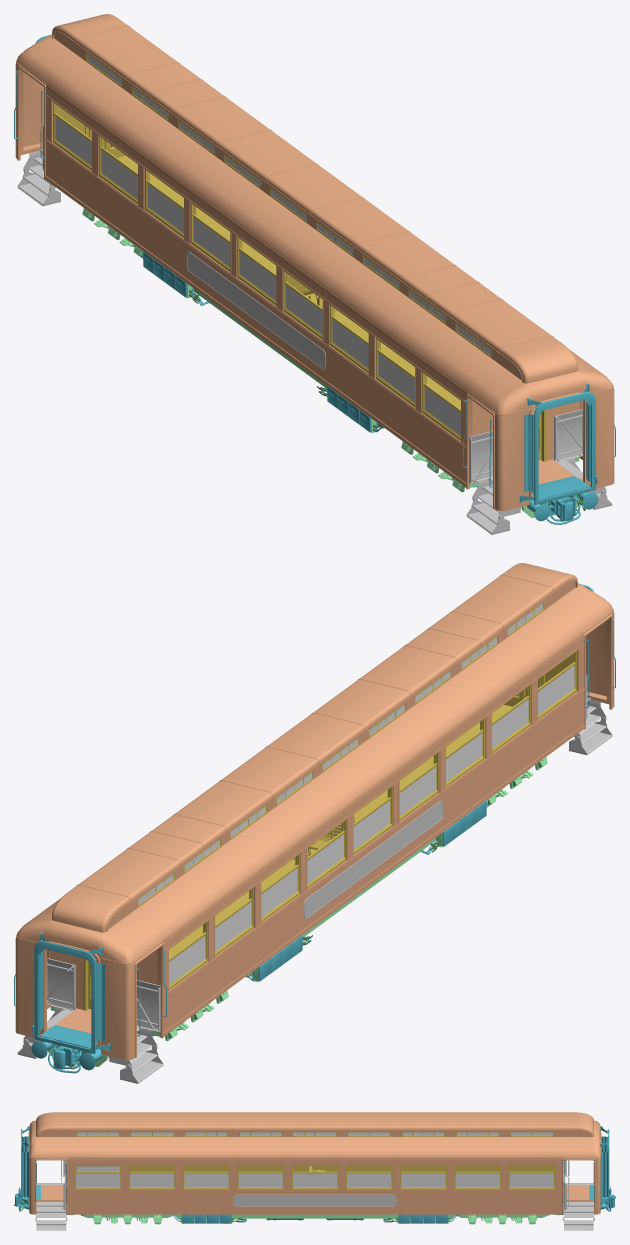
File: Passenger_Car_2_Class.fbx
The picture shows the model from 3 angles, top to bottom: view 1: azimuth 30°, elevation 25°; view 2: azimuth 150°, elevation 25°; view 3: azimuth 270°, elevation 25°; orthographic projection. The views are drawn at different scales.
Visible parts, largest first — view 1: Passenger_Car_2_Class, Passenger_Car_Ladder_Cover_1, Passenger_Car_Ladder_Cover_2, Passenger_Car_Ladder_4, Passenger_Car_Ladder_2; view 2: Passenger_Car_2_Class, Passenger_Car_Ladder_Cover_3, Passenger_Car_Ladder_Cover_4, Passenger_Car_Ladder_2, Passenger_Car_Ladder_4; view 3: Passenger_Car_2_Class, Passenger_Car_Carriage_2, Passenger_Car_Carriage_1, Passenger_Car_Ladder_1, Passenger_Car_Ladder_3, Passenger_Car_Window.
Boxes of the visible parts, left/top/right/bottom form: Passenger_Car_2_Class: left=14, top=14, right=615, bottom=524; Passenger_Car_Ladder_Cover_1: left=554, top=409, right=582, bottom=462; Passenger_Car_Ladder_Cover_2: left=469, top=431, right=492, bottom=483; Passenger_Car_Ladder_4: left=17, top=167, right=60, bottom=206; Passenger_Car_Ladder_2: left=466, top=496, right=509, bottom=534; Passenger_Car_2_Class: left=14, top=563, right=615, bottom=1073; Passenger_Car_Ladder_Cover_3: left=47, top=958, right=75, bottom=1011; Passenger_Car_Ladder_Cover_4: left=137, top=980, right=160, bottom=1032; Passenger_Car_Ladder_2: left=569, top=716, right=612, bottom=754; Passenger_Car_Ladder_4: left=120, top=1045, right=163, bottom=1083; Passenger_Car_2_Class: left=14, top=1112, right=615, bottom=1223; Passenger_Car_Carriage_2: left=455, top=1214, right=549, bottom=1224; Passenger_Car_Carriage_1: left=80, top=1214, right=174, bottom=1224; Passenger_Car_Ladder_1: left=36, top=1217, right=66, bottom=1230; Passenger_Car_Ladder_3: left=563, top=1217, right=593, bottom=1230; Passenger_Car_Window: left=75, top=1166, right=120, bottom=1171.
Size of the model in its own units: 285 by 365 by 2002.
